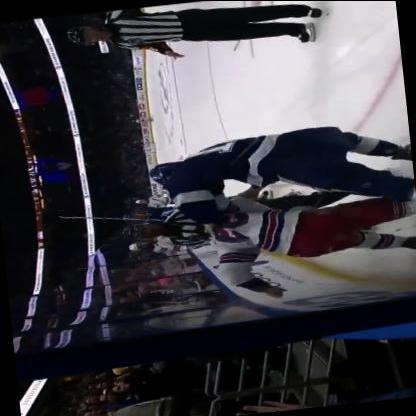non-Voilence: (146, 116, 415, 310), (63, 0, 332, 74)
